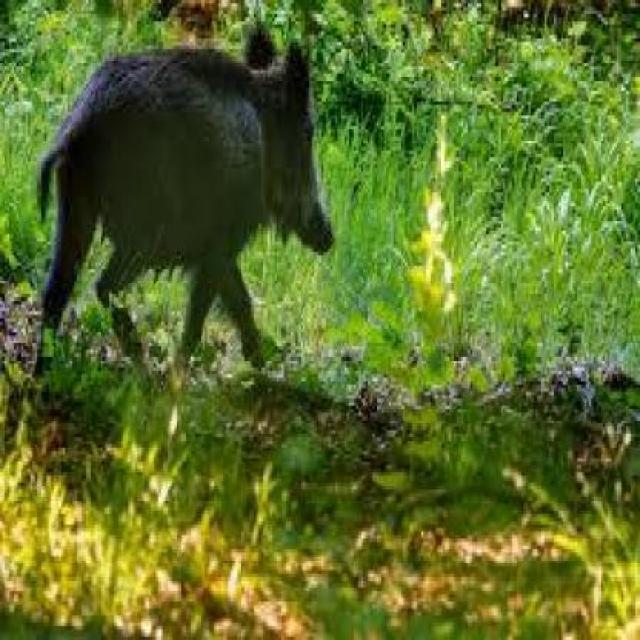wildboar: (28, 19, 340, 383)
